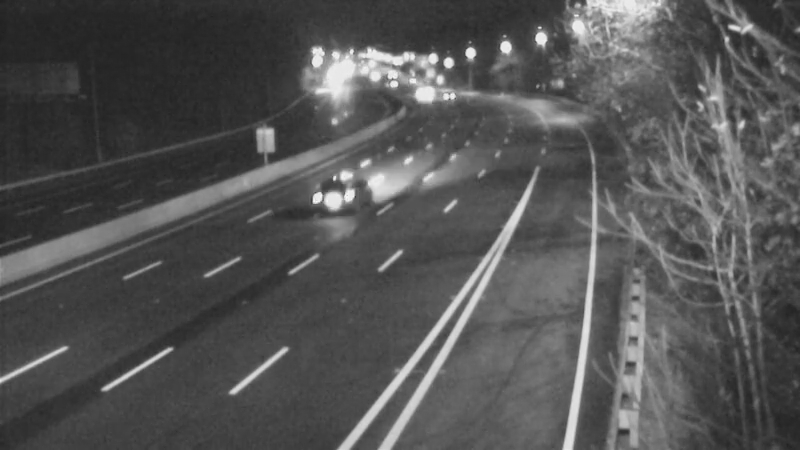vehicle: (305, 156, 385, 236), (369, 60, 419, 110), (392, 68, 442, 118), (425, 68, 475, 118)
